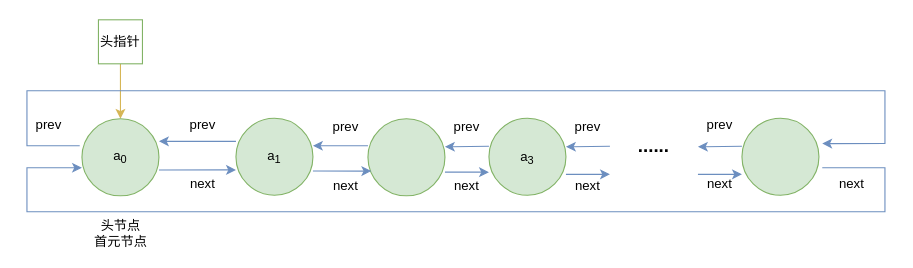
Some shapes in this 913 by 268 pixel diagram are drawn without their labels. The shapes that lost their labels are listed below. From the top down, each one's box as (x1, y1, x2, y2) in pixels, then its label:
(367, 118, 445, 196): a 2
(741, 117, 819, 195): a n
